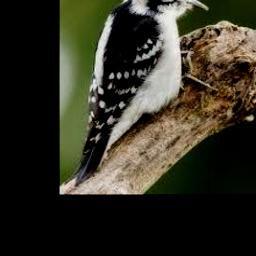Woodpecker: (65, 0, 220, 186)
